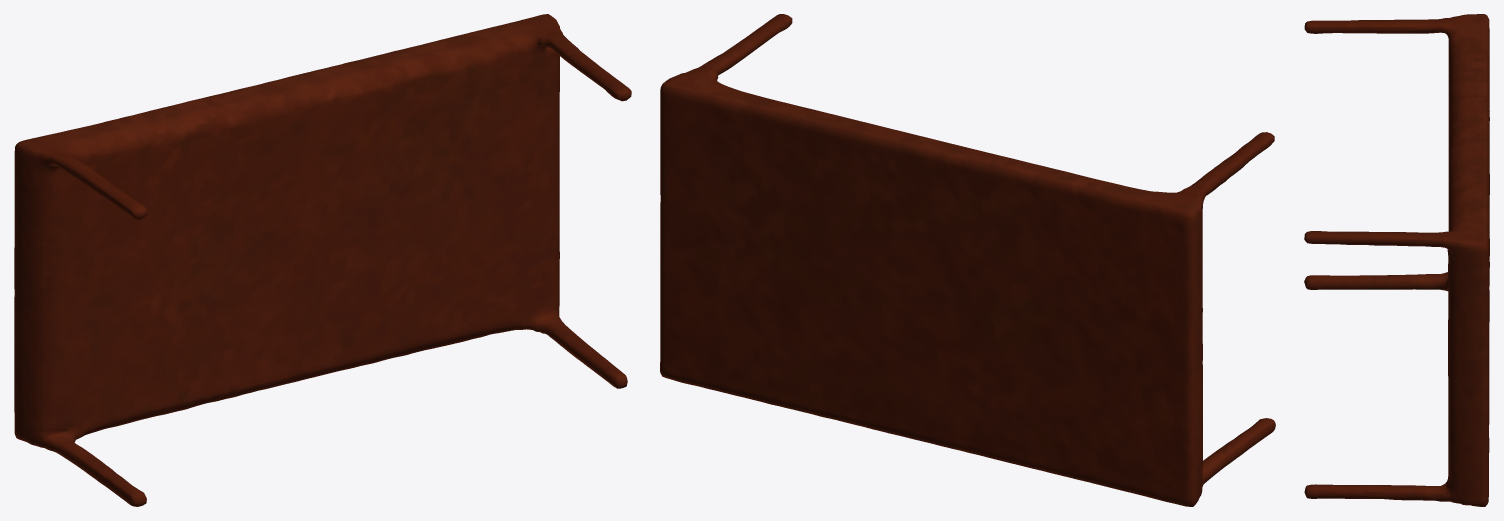
Rendered from This is table made up wood with square  shape. It .glb.
3 renders of one model, left to right at view 1: azimuth 30°, elevation 25°; view 2: azimuth 150°, elevation 25°; view 3: azimuth 270°, elevation 25°, orthographic. The views are drawn at different scales.
Parts seen in each view (by area): view 1: This is table made up wood with square shape. It; view 2: This is table made up wood with square shape. It; view 3: This is table made up wood with square shape. It.
Part boxes in pixels (left/top/right/bottom): This is table made up wood with square shape. It: left=14, top=14, right=631, bottom=506; This is table made up wood with square shape. It: left=660, top=14, right=1275, bottom=506; This is table made up wood with square shape. It: left=1304, top=14, right=1489, bottom=506.
Bounding box in the file's own units: 0.9962 × 0.5304 × 0.3351.
